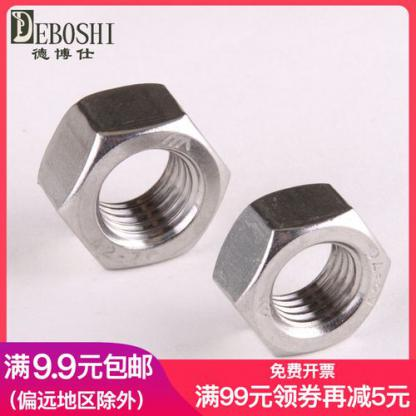FOD: (36, 82, 232, 276), (208, 178, 394, 358)
